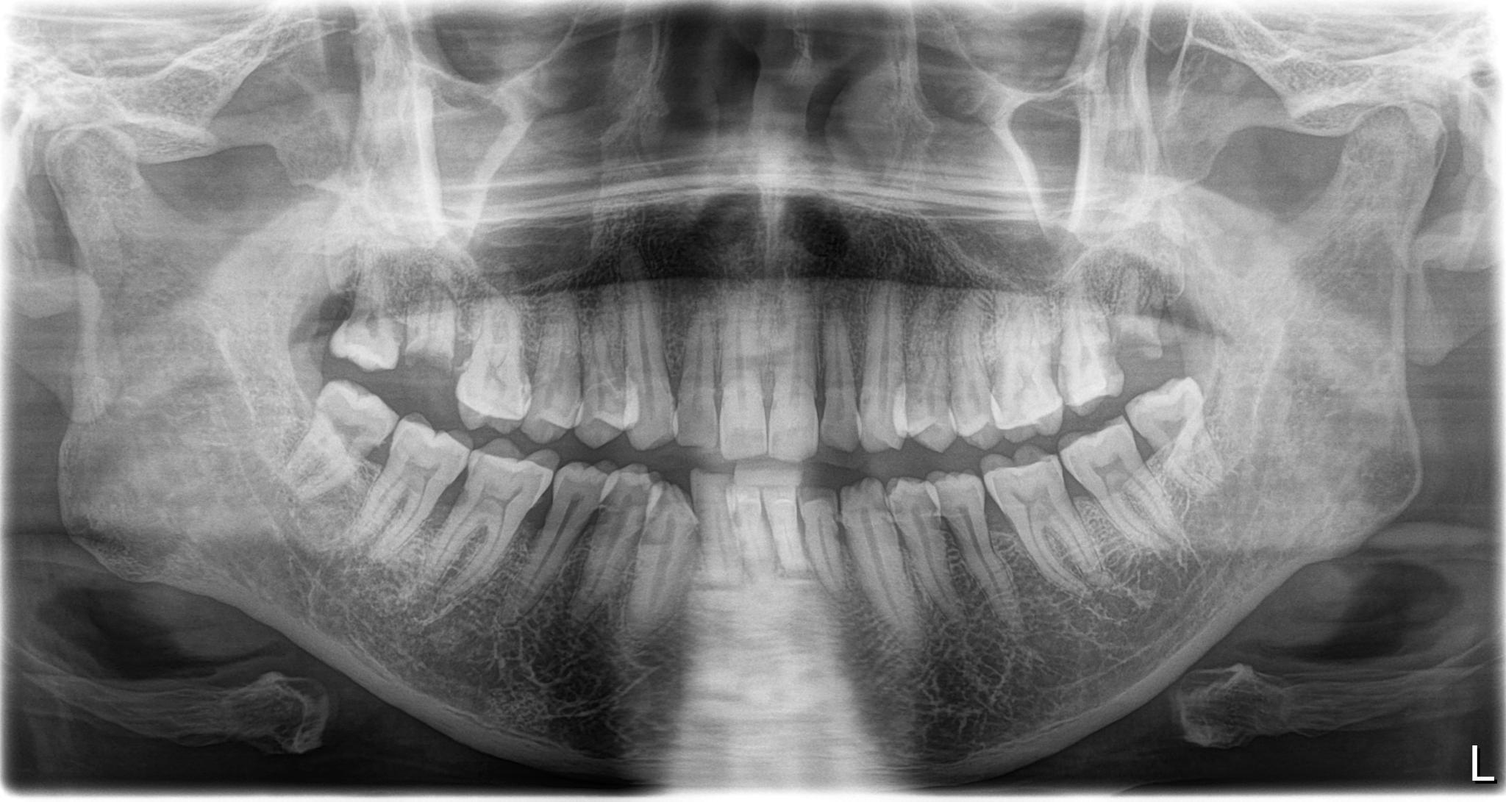Tooth Fracture: (1110, 283, 1183, 386), (412, 303, 460, 414)
